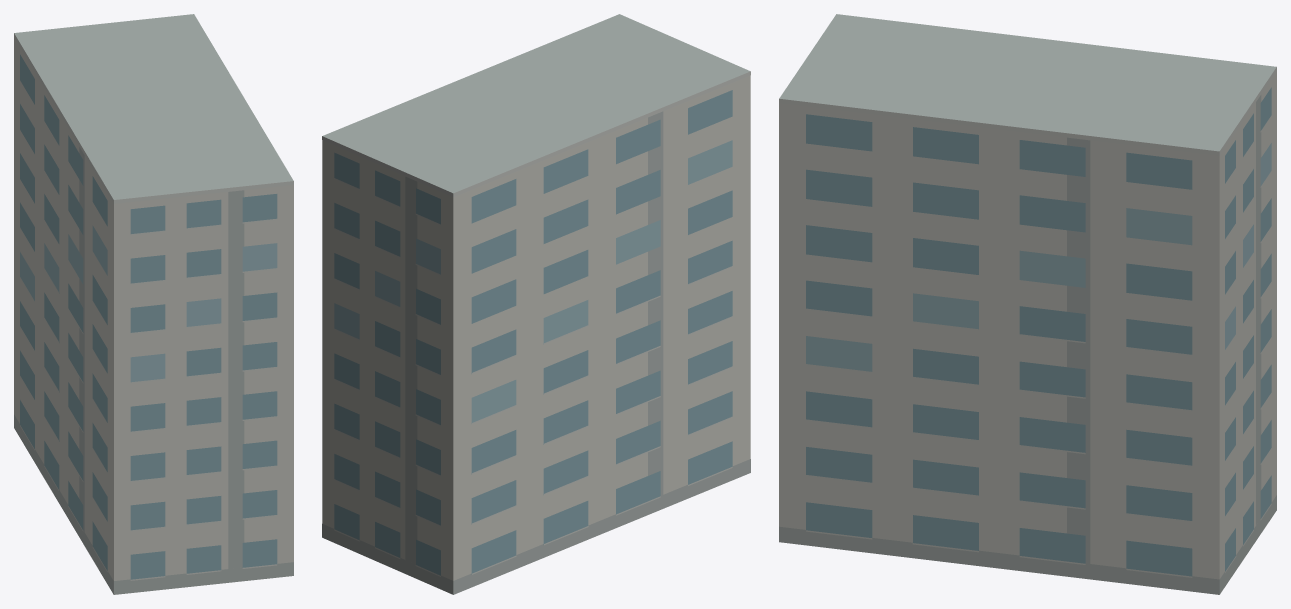
The model's file is survey-upis-32871912.glb.
3 views of the same model, side by side, from view 1: azimuth 30°, elevation 25°; view 2: azimuth 150°, elevation 25°; view 3: azimuth 270°, elevation 25° (orthographic). The views are drawn at different scales.
Visible parts, largest first — view 1: survey-upis-32871912.tmp; view 2: survey-upis-32871912.tmp; view 3: survey-upis-32871912.tmp.
Part boxes in pixels (x1,y1,x2,y2): survey-upis-32871912.tmp: [14, 14, 293, 594]; survey-upis-32871912.tmp: [322, 14, 750, 594]; survey-upis-32871912.tmp: [779, 14, 1276, 594].
Bounding box in the file's own units: 16.23 × 24.4 × 24.83.
